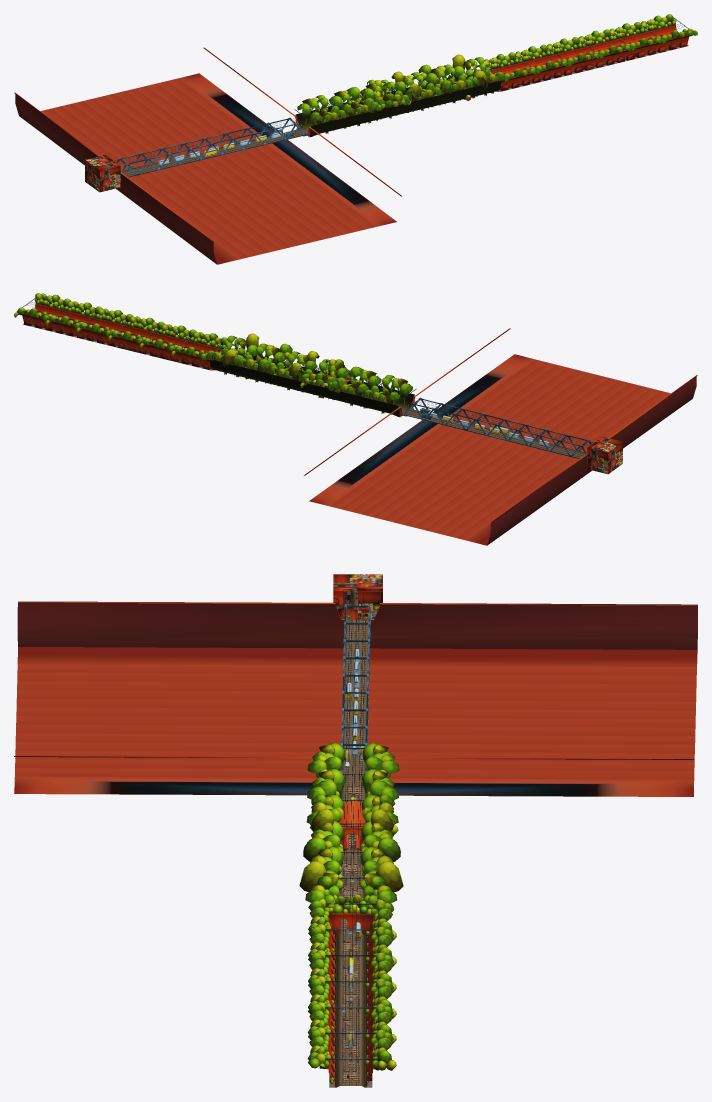
The model's file is subway.glb.
The picture shows the model from 3 angles, top to bottom: view 1: azimuth 30°, elevation 25°; view 2: azimuth 150°, elevation 25°; view 3: azimuth 270°, elevation 25°; orthographic projection. The views are drawn at different scales.
Visible parts, largest first — view 1: StaticMeshActor_236_Material_6_0, StaticMeshActor_265_Material_7_0; view 2: StaticMeshActor_236_Material_6_0, StaticMeshActor_265_Material_7_0; view 3: StaticMeshActor_236_Material_6_0, StaticMeshActor_265_Material_7_0.
Boxes of the visible parts, bbox=[...] form: StaticMeshActor_236_Material_6_0: bbox=[14, 14, 697, 264]; StaticMeshActor_265_Material_7_0: bbox=[158, 80, 499, 165]; StaticMeshActor_236_Material_6_0: bbox=[14, 293, 697, 545]; StaticMeshActor_265_Material_7_0: bbox=[211, 359, 549, 446]; StaticMeshActor_236_Material_6_0: bbox=[14, 574, 697, 1087]; StaticMeshActor_265_Material_7_0: bbox=[344, 649, 364, 1047].
Bounding box in the file's own units: 363 × 25.61 × 216.
6 materials, 6 textured.
